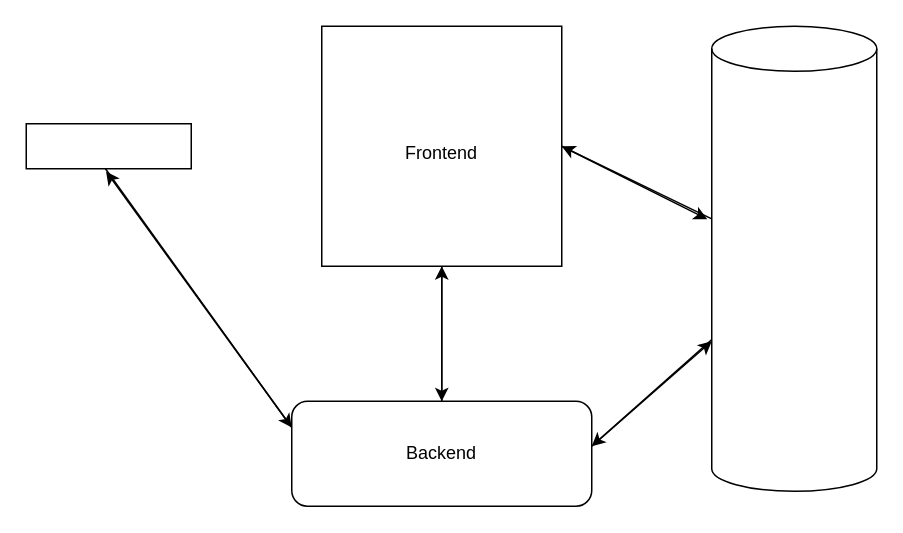
Image size: 903x533. Some labels were removed from this diagram. The shapes that lost their labels are listed below. From the top down, each one's centre as x and y in pixels, then its label:
pixel 108 145: Arduino
pixel 793 258: Database
